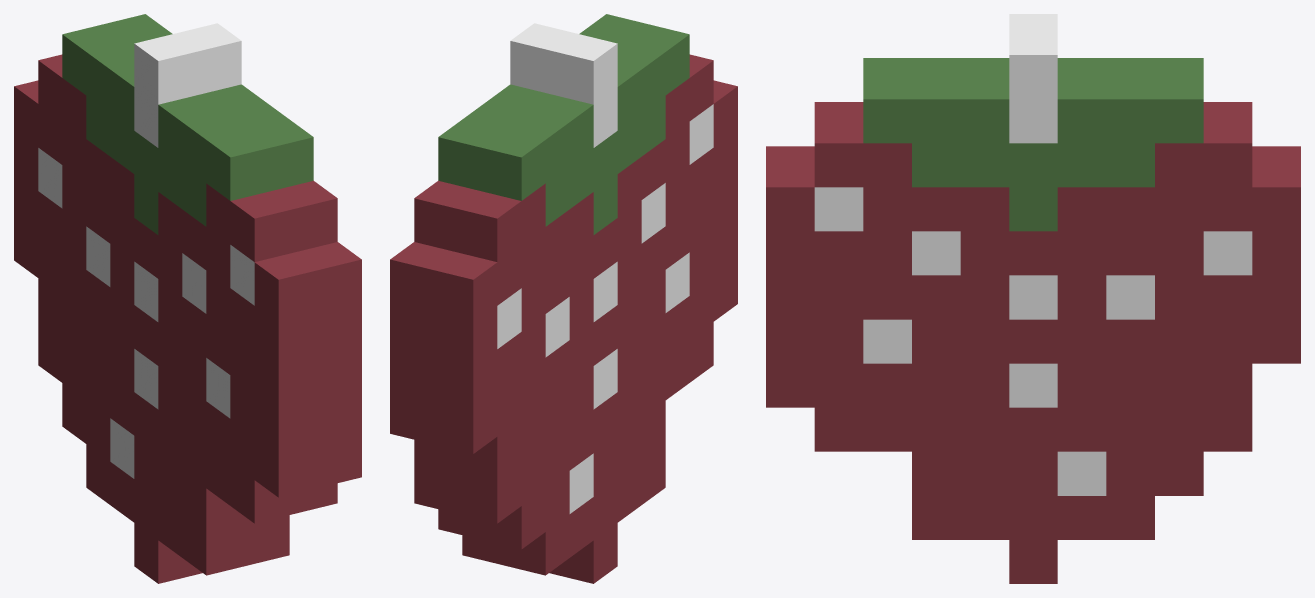
Rendered from Strawberry PacMan.fbx.
3 views of the same model, side by side, from view 1: azimuth 30°, elevation 25°; view 2: azimuth 150°, elevation 25°; view 3: azimuth 270°, elevation 25° (orthographic).
Parts seen in each view (by area): view 1: polySurface10; view 2: polySurface10; view 3: polySurface10.
Part boxes in pixels (<box>): polySurface10: <box>14,14,361,583</box>; polySurface10: <box>390,14,737,583</box>; polySurface10: <box>766,14,1300,583</box>.
Size of the model in its own units: 0.02 by 0.12 by 0.11.
